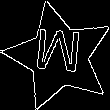M_S: (33, 30, 85, 84)
